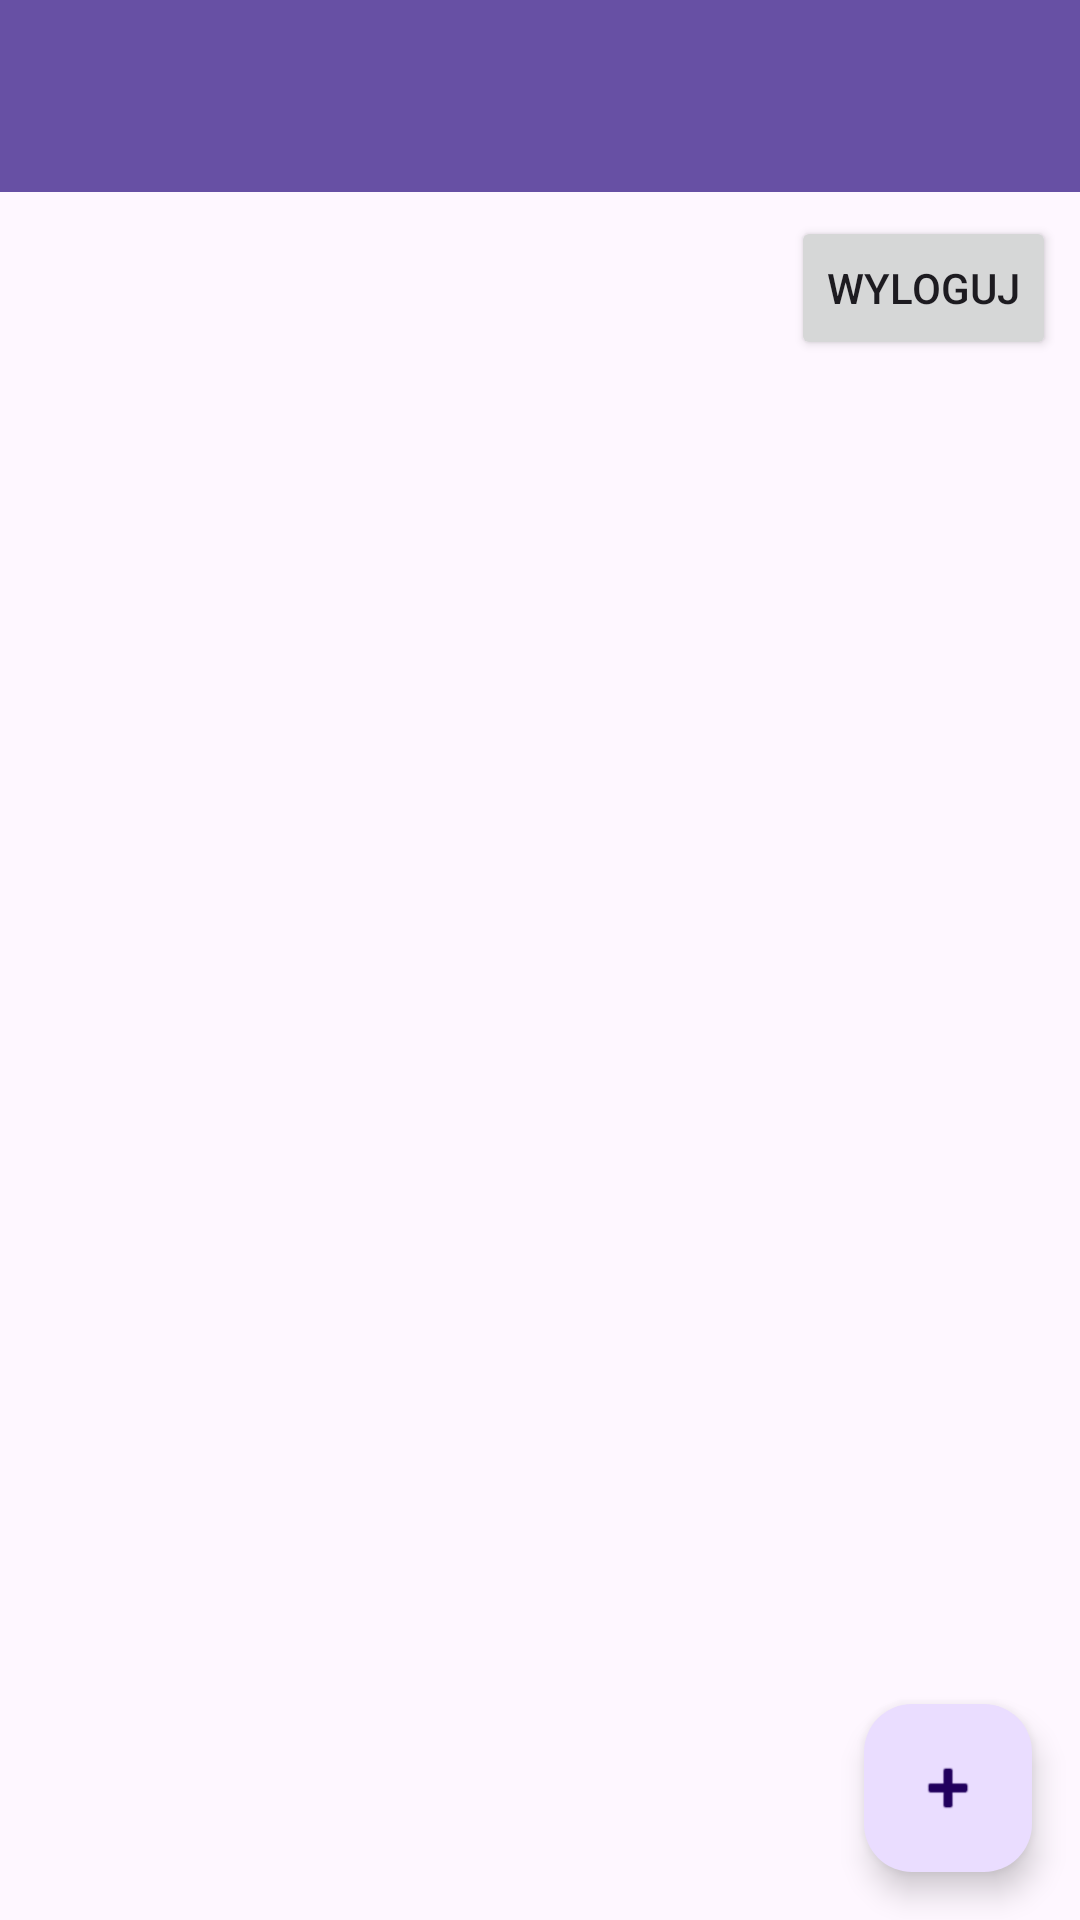

Icons on this 1080px x 1920px Android screen, each with its box as [x1,y1,x2,y2]:
Dodaj konto: [864,1704,1032,1872]
